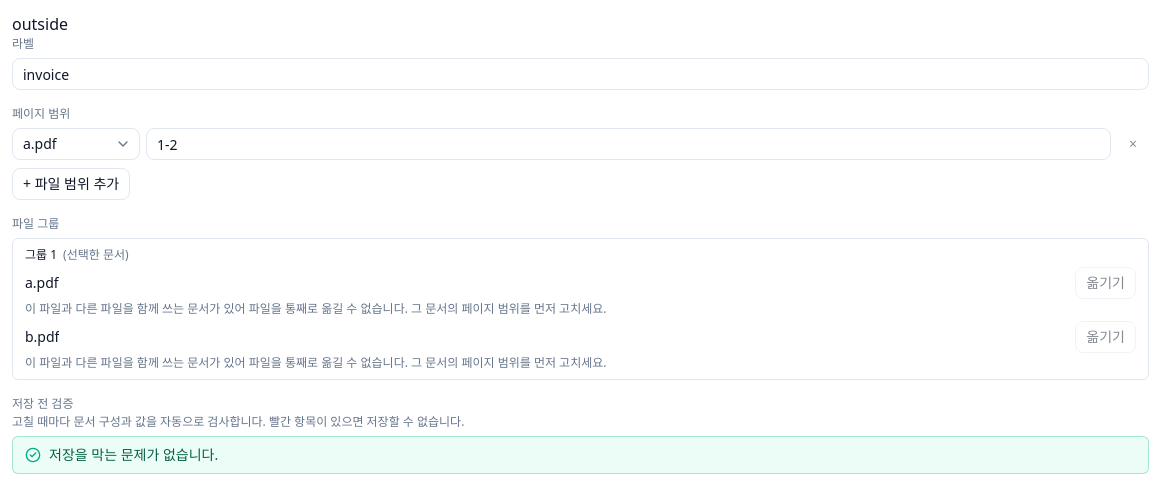
it: StructurePanel 라벨 자유 입력 › Enter 확정 뒤 입력이 다시 마운트되어 포커스가 입력에 남지 않는다
The image size is (1164, 491).
Step 1. Replace the text in the field with test id "job-review-structure-label-input" with "Memo" → (580, 74), box [12,58,1149,90]
Then press Enter
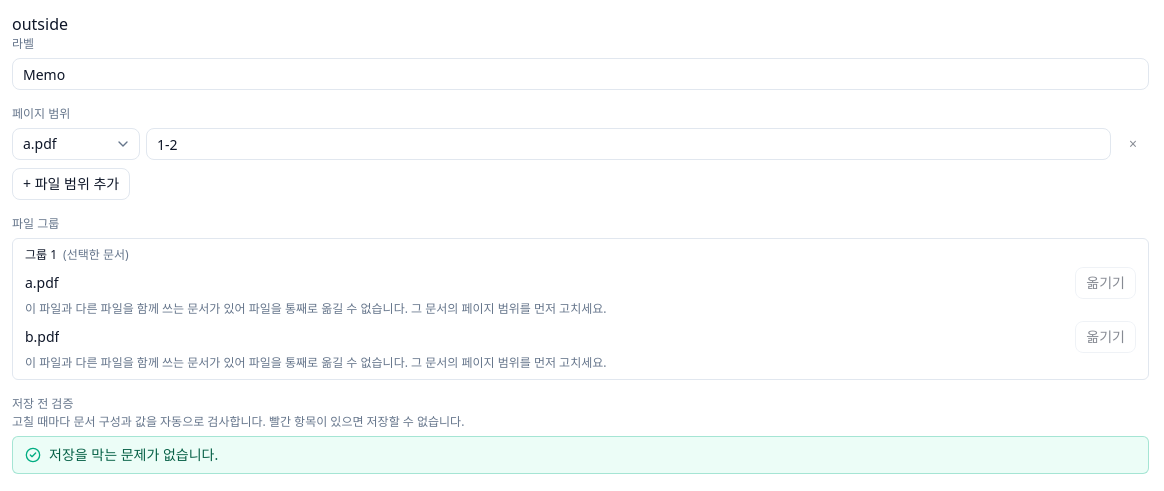
Result: the field with test id "job-review-structure-label-input" holds "Memo" at [12,58,1149,90]
